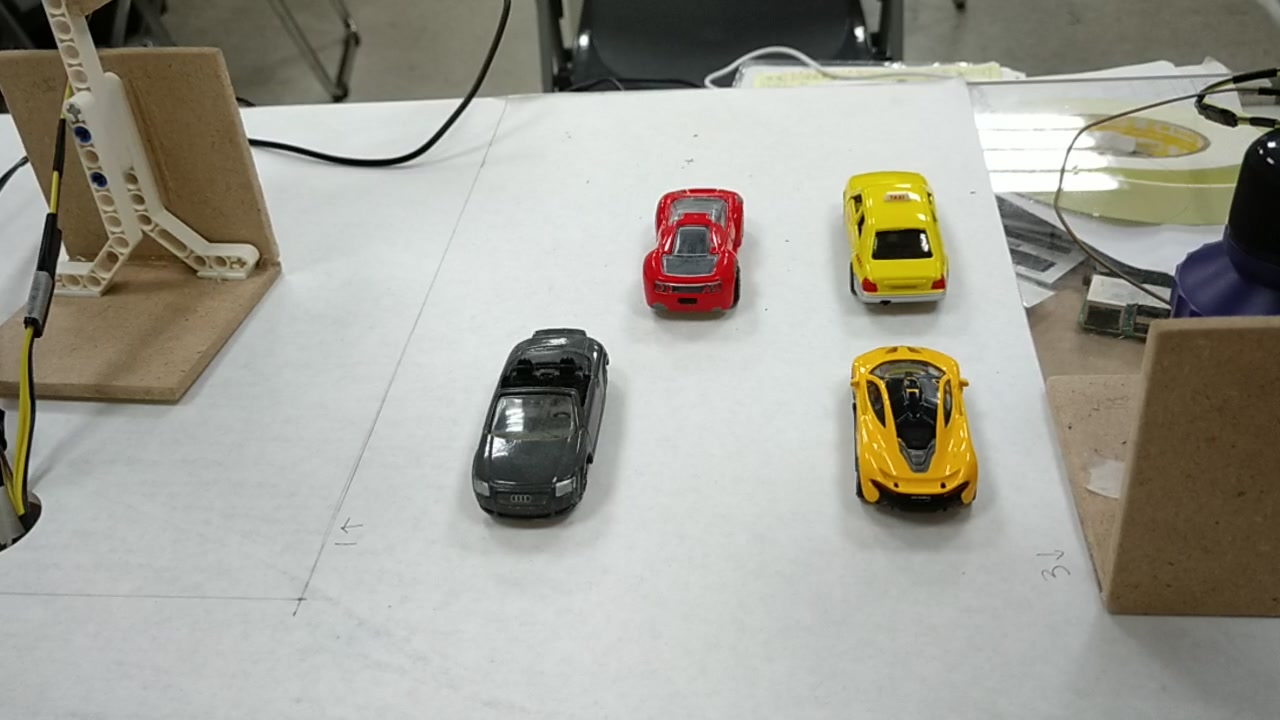car: (468, 336, 623, 522), (854, 346, 981, 503), (638, 192, 757, 312), (845, 165, 944, 306)
